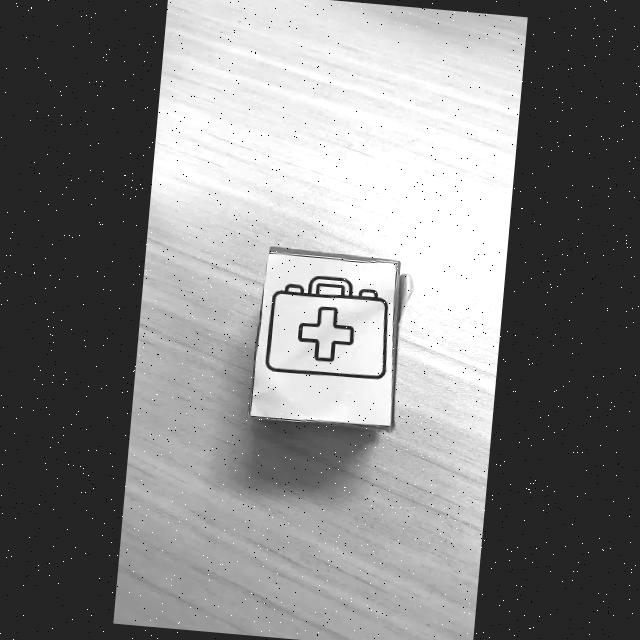Medkit: (264, 276, 387, 380)
